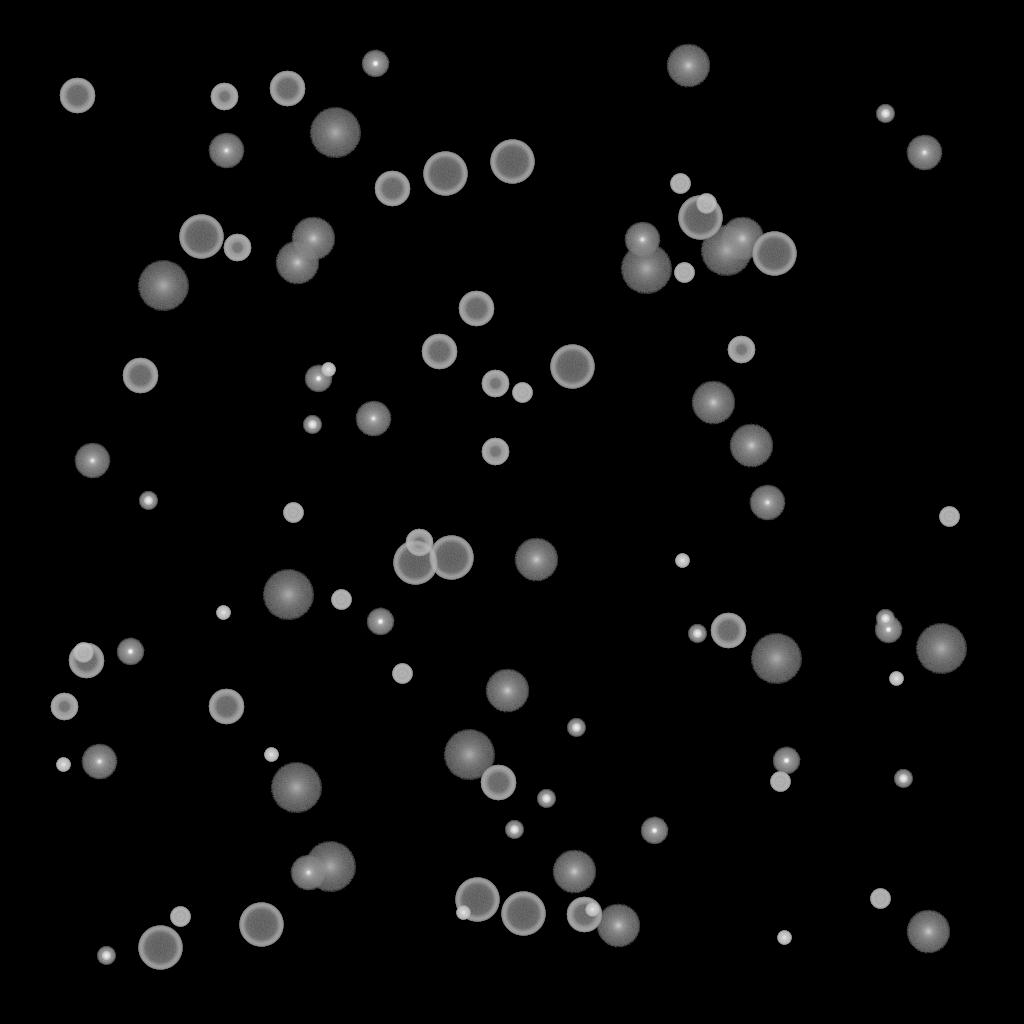depth:-10: (640, 817, 668, 845), (874, 616, 902, 644), (304, 365, 332, 393), (772, 747, 800, 775), (116, 638, 144, 666), (366, 608, 394, 636), (361, 50, 389, 78)
depth:-20: (567, 719, 585, 737), (505, 821, 523, 839), (303, 416, 321, 434), (139, 492, 157, 510), (876, 610, 894, 628), (97, 947, 115, 965), (876, 105, 894, 123), (537, 790, 555, 808), (894, 770, 912, 788), (688, 625, 706, 643)
depth:-30: (321, 363, 335, 377), (264, 748, 278, 762), (777, 931, 791, 945), (889, 672, 903, 686), (216, 606, 230, 620), (456, 906, 470, 920), (585, 903, 599, 917), (56, 758, 70, 772), (675, 554, 689, 568)
depth:-40: (392, 664, 412, 684), (512, 383, 532, 403), (870, 889, 890, 909), (696, 194, 716, 214), (770, 772, 790, 792), (939, 507, 959, 527), (331, 590, 351, 610), (283, 503, 303, 523), (73, 643, 93, 663), (170, 907, 190, 927), (674, 263, 694, 283), (670, 174, 690, 194)
depth:-50: (210, 83, 238, 111), (481, 438, 509, 466), (405, 529, 433, 557), (481, 370, 509, 398), (223, 234, 251, 262), (50, 693, 78, 721), (727, 336, 755, 364)
depth:-60: (480, 765, 516, 801), (269, 71, 305, 107), (421, 334, 457, 370), (458, 291, 494, 327), (374, 171, 410, 207), (122, 358, 158, 394), (710, 613, 746, 649), (208, 689, 244, 725), (59, 78, 95, 114), (68, 643, 104, 679), (566, 897, 602, 933)
depth:-70: (752, 232, 796, 276), (393, 541, 437, 585), (423, 152, 467, 196), (501, 892, 545, 936), (239, 903, 283, 947), (179, 215, 223, 259), (550, 345, 594, 389), (455, 878, 499, 922), (678, 196, 722, 240), (490, 140, 534, 184), (138, 926, 182, 970), (429, 536, 473, 580)
depth:0: (208, 133, 244, 169), (81, 744, 117, 780), (624, 222, 660, 258), (355, 401, 391, 437), (74, 443, 110, 479), (906, 135, 942, 171), (290, 855, 326, 891), (749, 485, 785, 521)
depth:10: (514, 538, 558, 582), (485, 669, 529, 713), (691, 381, 735, 425), (666, 44, 710, 88), (720, 217, 764, 261), (596, 904, 640, 948), (906, 910, 950, 954), (275, 241, 319, 285), (729, 424, 773, 468), (291, 217, 335, 261), (552, 850, 596, 894)
depth:20: (137, 261, 189, 311), (304, 842, 356, 892), (270, 763, 322, 813), (750, 634, 802, 684), (262, 570, 314, 620), (915, 624, 967, 674), (443, 730, 495, 780), (620, 244, 672, 294), (700, 226, 752, 276), (309, 108, 361, 158)
